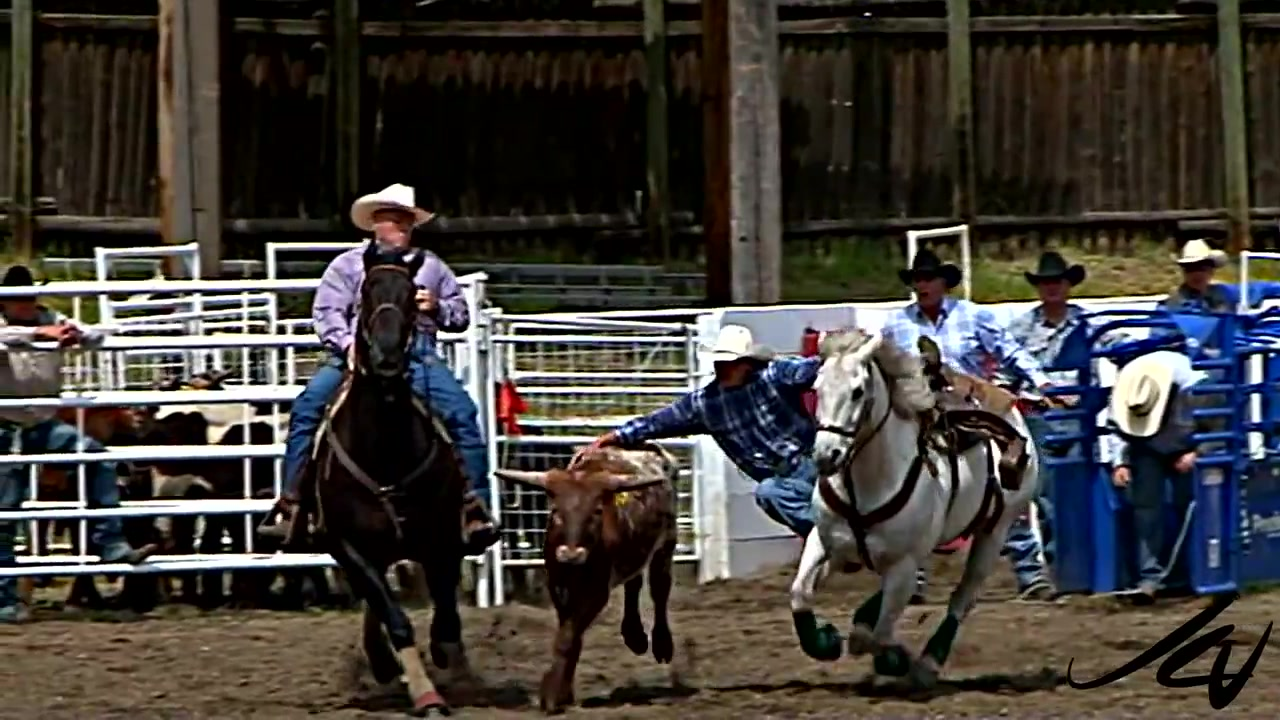horse: (303, 232, 481, 719)
